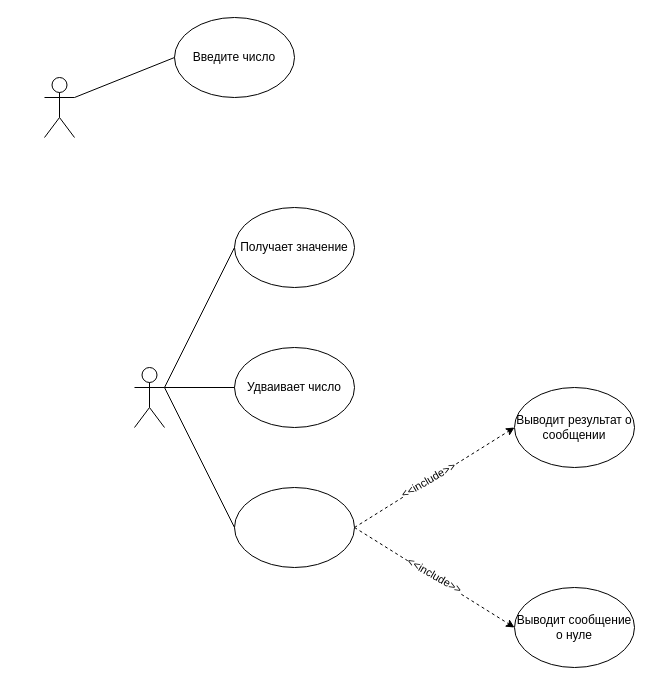
Some shapes in this 652 by 685 pixel diagram are drawn without their labels. Each missing label, with the centre of its shape:
"Выводит сообщение" goes at [294,527].
"Полльзователь" goes at [59,107].
"Программа" goes at [149,397].
